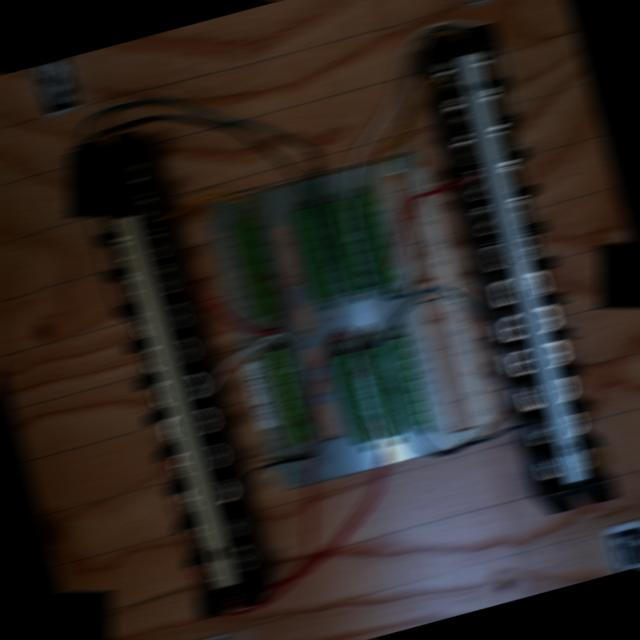Flathead_Block: (70, 129, 266, 619)
Phillips_Block: (427, 22, 618, 513)
Terminal_1: (263, 345, 315, 446), (231, 217, 281, 318)
Terminal_2: (291, 205, 339, 302), (321, 198, 369, 294), (330, 350, 378, 445), (358, 343, 406, 438), (350, 192, 398, 287)
